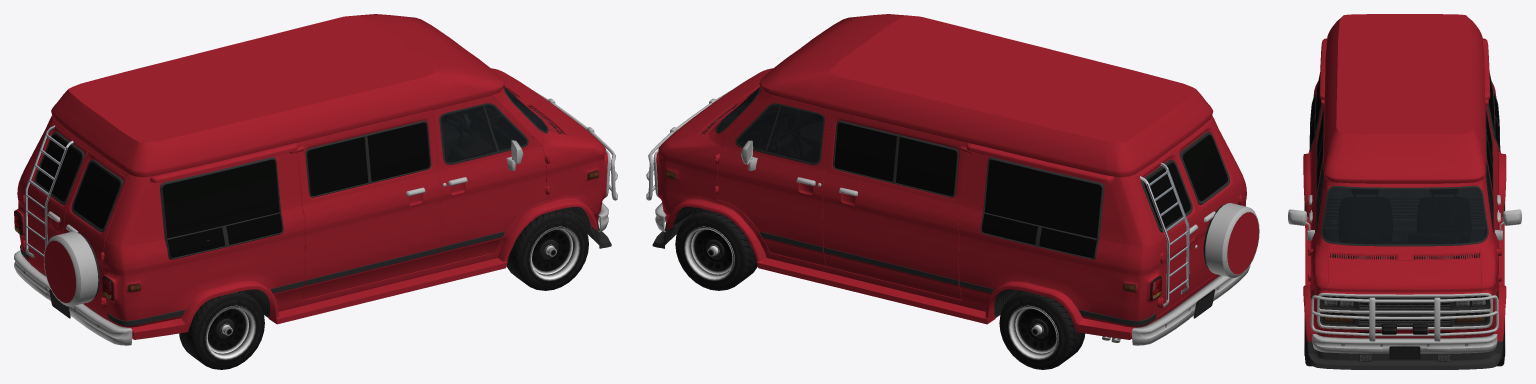
Rendered from combi-blender.glb.
The picture shows the model from 3 angles, left to right: view 1: azimuth 30°, elevation 25°; view 2: azimuth 150°, elevation 25°; view 3: azimuth 270°, elevation 25°; orthographic projection. The views are drawn at different scales.
Parts seen in each view (by area): view 1: Shvan92_Body_Shvan92_bodymat_0, Shvan92_Traveler_Stuff_Shvan92_bodymat_0, Shvan92_Traveler_Stuff_Inner_UCB_BOTTOM_0, wheel_fr_rueda, wheel_rr_rueda, Shvan92_Bottom_UCB_BOTTOM_0, Shvan92_Interior_UCB_Interiors_1_0, Shvan92_Glass_Passanger_UCB_Lights_and_Glass_Transperent_0, Shvan92_Bumper_rear_UCB_BOTTOM_0, Shvan92_Hood_Shvan92_bodymat_0, Shvan92_Body_glass_UCB_Lights_and_Glass_Transperent_0, Shvan92_Bullbar_C_UCB_BOTTOM_0; view 2: Shvan92_Body_Shvan92_bodymat_0, Shvan92_Traveler_Stuff_Shvan92_bodymat_0, Shvan92_Traveler_Stuff_Inner_UCB_BOTTOM_0, wheel_fl_rueda, wheel_rl_rueda, Shvan92_Bottom_UCB_BOTTOM_0, Shvan92_Interior_UCB_Interiors_1_0, Shvan92_Glass_Driver_UCB_Lights_and_Glass_Transperent_0, Shvan92_Bumper_rear_UCB_BOTTOM_0, Shvan92_Hood_Shvan92_bodymat_0, Shvan92_Body_glass_UCB_Lights_and_Glass_Transperent_0, Shvan92_Bullbar_C_UCB_BOTTOM_0; view 3: Shvan92_Traveler_Stuff_Shvan92_bodymat_0, Shvan92_Body_Shvan92_bodymat_0, windshield, Shvan92_Traveler_Stuff_Inner_UCB_BOTTOM_0, Shvan92_Bottom_UCB_BOTTOM_0, Shvan92_Hood_Shvan92_bodymat_0, Shvan92_Interior_UCB_Interiors_1_0, Shvan92_Bumper_front_UCB_BOTTOM_0, Shvan92_Bullbar_C_UCB_BOTTOM_0, Shvan92_Headlights_Glass_UCB_Lights_and_Glass_Transperent_0.
Part boxes in pixels (x1,y1,x2,y2): Shvan92_Body_Shvan92_bodymat_0: (16, 68, 607, 327); Shvan92_Traveler_Stuff_Shvan92_bodymat_0: (23, 14, 598, 339); Shvan92_Traveler_Stuff_Inner_UCB_BOTTOM_0: (25, 120, 611, 306); wheel_fr_rueda: (506, 208, 588, 290); wheel_rr_rueda: (179, 290, 264, 369); Shvan92_Bottom_UCB_BOTTOM_0: (20, 87, 610, 326); Shvan92_Interior_UCB_Interiors_1_0: (300, 95, 546, 280); Shvan92_Glass_Passanger_UCB_Lights_and_Glass_Transperent_0: (441, 106, 496, 162); Shvan92_Bumper_rear_UCB_BOTTOM_0: (14, 250, 132, 345); Shvan92_Hood_Shvan92_bodymat_0: (494, 71, 599, 141); Shvan92_Body_glass_UCB_Lights_and_Glass_Transperent_0: (484, 105, 526, 150); Shvan92_Bullbar_C_UCB_BOTTOM_0: (533, 90, 617, 200); Shvan92_Body_Shvan92_bodymat_0: (656, 68, 1246, 327); Shvan92_Traveler_Stuff_Shvan92_bodymat_0: (666, 14, 1258, 339); Shvan92_Traveler_Stuff_Inner_UCB_BOTTOM_0: (652, 120, 1259, 308); wheel_fl_rueda: (675, 208, 757, 290); wheel_rl_rueda: (999, 290, 1084, 369); Shvan92_Bottom_UCB_BOTTOM_0: (653, 87, 1219, 342); Shvan92_Interior_UCB_Interiors_1_0: (718, 94, 822, 161); Shvan92_Glass_Driver_UCB_Lights_and_Glass_Transperent_0: (767, 106, 822, 162); Shvan92_Bumper_rear_UCB_BOTTOM_0: (1132, 265, 1250, 345); Shvan92_Hood_Shvan92_bodymat_0: (664, 71, 769, 141); Shvan92_Body_glass_UCB_Lights_and_Glass_Transperent_0: (737, 105, 779, 151); Shvan92_Bullbar_C_UCB_BOTTOM_0: (646, 91, 729, 200); Shvan92_Traveler_Stuff_Shvan92_bodymat_0: (1303, 14, 1506, 341); Shvan92_Body_Shvan92_bodymat_0: (1308, 38, 1501, 338); windshield: (1322, 188, 1487, 244); Shvan92_Traveler_Stuff_Inner_UCB_BOTTOM_0: (1306, 73, 1502, 369); Shvan92_Bottom_UCB_BOTTOM_0: (1288, 161, 1521, 361); Shvan92_Hood_Shvan92_bodymat_0: (1328, 258, 1481, 294); Shvan92_Interior_UCB_Interiors_1_0: (1316, 166, 1492, 244); Shvan92_Bumper_front_UCB_BOTTOM_0: (1312, 334, 1497, 359); Shvan92_Bullbar_C_UCB_BOTTOM_0: (1310, 295, 1498, 341); Shvan92_Headlights_Glass_UCB_Lights_and_Glass_Transperent_0: (1324, 300, 1485, 322).
Size of the model in its own units: 5.18 by 2.11 by 2.35.
Materials: 6 (5 with a texture image).
